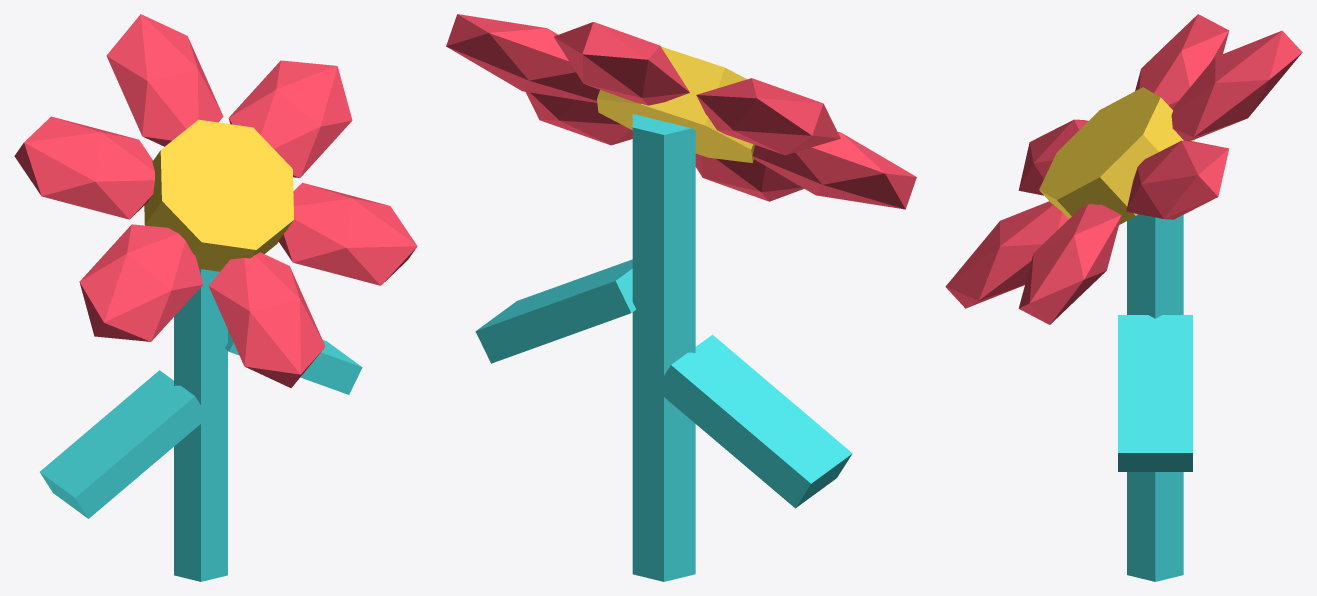
Rendered from flower_pink.glb.
The picture shows the model from 3 angles, left to right: view 1: azimuth 30°, elevation 25°; view 2: azimuth 150°, elevation 25°; view 3: azimuth 270°, elevation 25°; orthographic projection. The views are drawn at different scales.
Visible parts, largest first — view 1: Flower; view 2: Flower; view 3: Flower.
Part boxes in pixels (x1,y1,x2,y2): Flower: (14, 14, 417, 581); Flower: (446, 14, 916, 581); Flower: (945, 14, 1302, 581).
Size of the model in its own units: 0.8147 by 1.27 by 0.7635.
